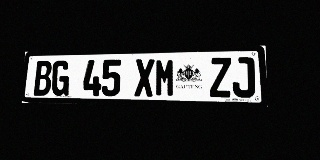4: (83, 60, 102, 96)
5: (101, 59, 121, 96)
B: (33, 61, 52, 96)
G: (51, 60, 70, 96)
J: (232, 57, 255, 98)
M: (155, 58, 175, 97)
X: (134, 59, 154, 97)
Z: (209, 57, 232, 97)
